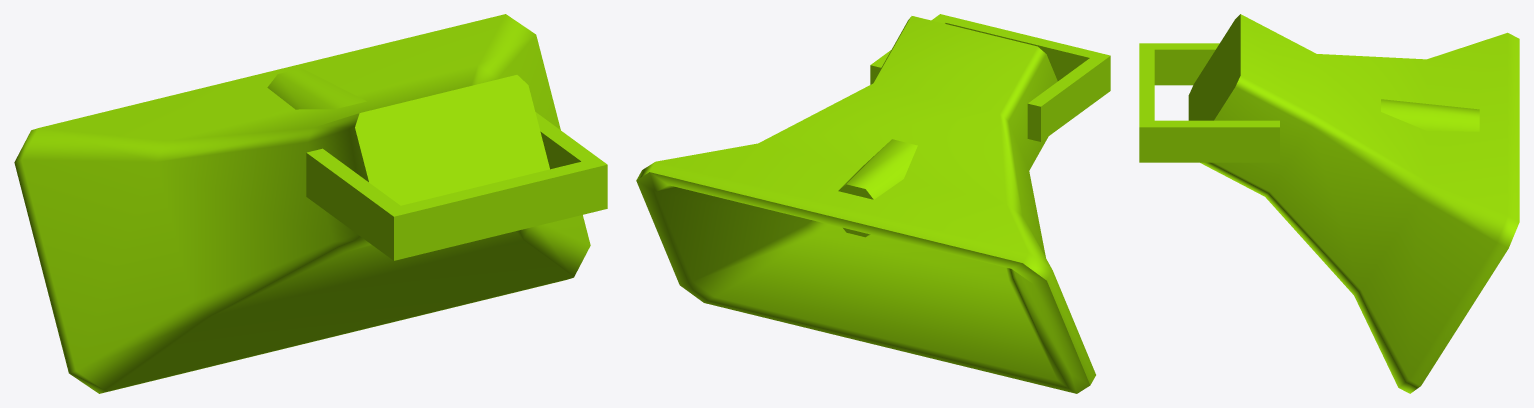
Rendered from Asset_All_3.fbx.
3 renders of one model, left to right at view 1: azimuth 30°, elevation 25°; view 2: azimuth 150°, elevation 25°; view 3: azimuth 270°, elevation 25°, orthographic. The views are drawn at different scales.
Parts seen in each view (by area): view 1: Asset_All_3; view 2: Asset_All_3; view 3: Asset_All_3.
Part boxes in pixels (x1,y1,x2,y2): Asset_All_3: (14, 14, 607, 393); Asset_All_3: (636, 14, 1110, 393); Asset_All_3: (1139, 14, 1519, 393).
Bounding box in the file's own units: 56.73 × 33.75 × 45.18.
